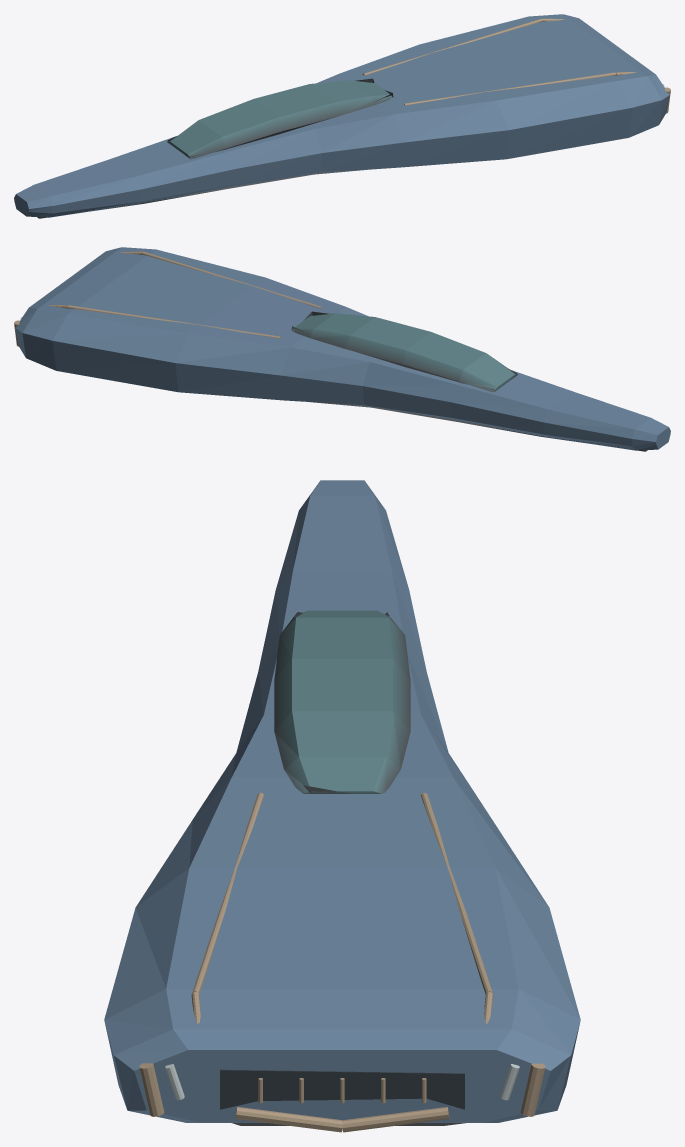
The model's file is jetjet_blue_parked.glb.
The picture shows the model from 3 angles, top to bottom: view 1: azimuth 30°, elevation 25°; view 2: azimuth 150°, elevation 25°; view 3: azimuth 270°, elevation 25°; orthographic projection. The views are drawn at different scales.
Parts seen in each view (by area): view 1: hull_0, cockpit_frame_2, bonnet_edge_3, lower_keel_1; view 2: hull_0, cockpit_frame_2, bonnet_edge_3, lower_keel_1; view 3: hull_0, cockpit_frame_2, front_grille_7, bonnet_edge_3, front_chevron_6, front_corner_4.
Part boxes in pixels (box(x1,y1,x2,y2)): hull_0: box(14, 14, 669, 217); cockpit_frame_2: box(167, 78, 393, 159); bonnet_edge_3: box(362, 18, 636, 105); lower_keel_1: box(37, 169, 367, 218); hull_0: box(15, 247, 670, 450); cockpit_frame_2: box(291, 311, 517, 392); bonnet_edge_3: box(48, 251, 322, 338); lower_keel_1: box(310, 402, 647, 451); hull_0: box(104, 480, 580, 1122); cockpit_frame_2: box(274, 610, 410, 793); front_grille_7: box(220, 1069, 464, 1109); bonnet_edge_3: box(191, 793, 493, 1023); front_chevron_6: box(235, 1107, 449, 1132); front_corner_4: box(139, 1063, 545, 1116).
Bounding box in the file's own units: 10.17 × 1.23 × 3.5.
